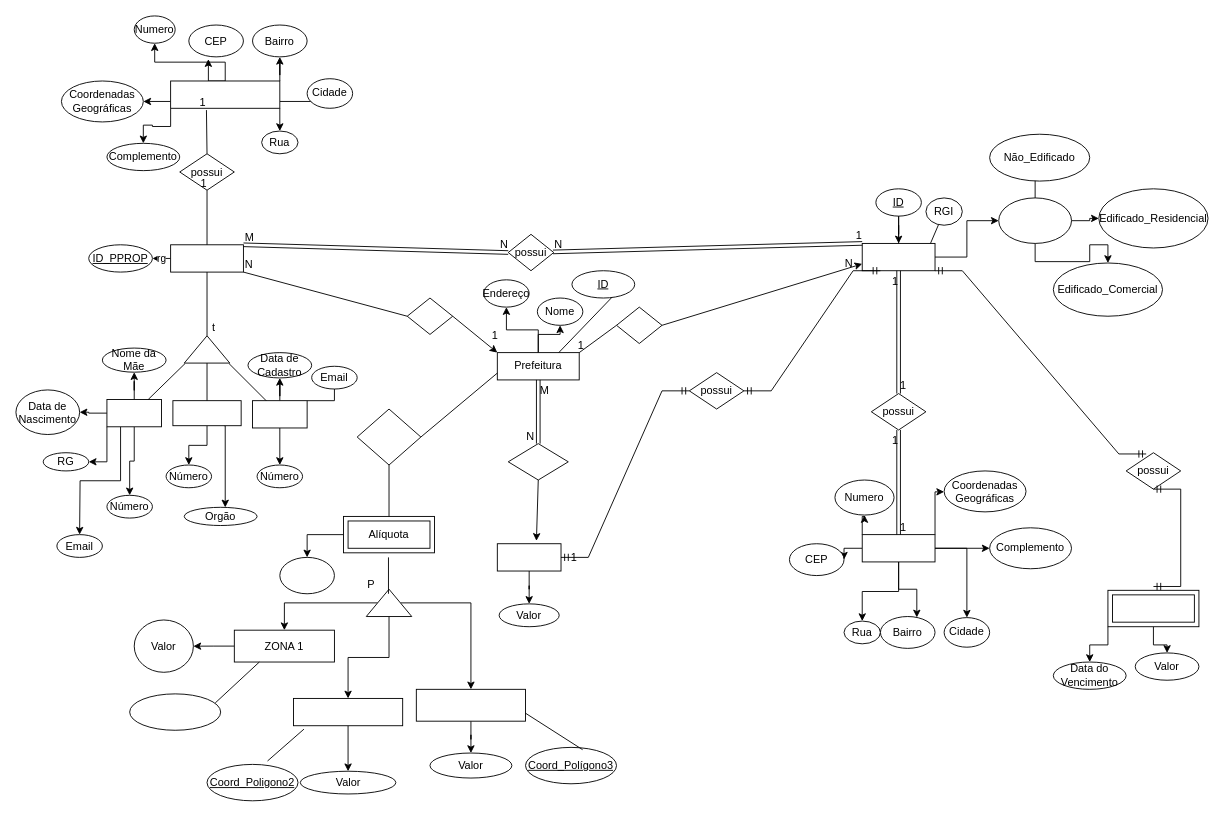
The diagram is 1224 pixels wide and 817 high, and some of its shapes have lost their labels. The centre of each missing label's shape, as x and y in pixels:
"Calcula" belongs at (537,461).
"Coord_Poligono1" belongs at (175,711).
"Determina" belongs at (388,436).
"Endereço Imóvel" belongs at (898,548).
"Endereço_Prop" belongs at (225,94).
"Imóvel" belongs at (898,257).
"IPTU" belongs at (1153,608).
"Isento" belongs at (306,575).
"paga" belongs at (429,315).
"Pessoa Fisica" belongs at (134,413).
"Pessoa Jurídica" belongs at (279,414).
"Proprietário" belongs at (206,258).
"Tipo" belongs at (1035,220).
"tributa" belongs at (639,325).
"União" belongs at (206,413).
"Valor Venal" belongs at (528,557).
"ZONA 2" belongs at (348,712).
"ZONA 3" belongs at (470,704).
